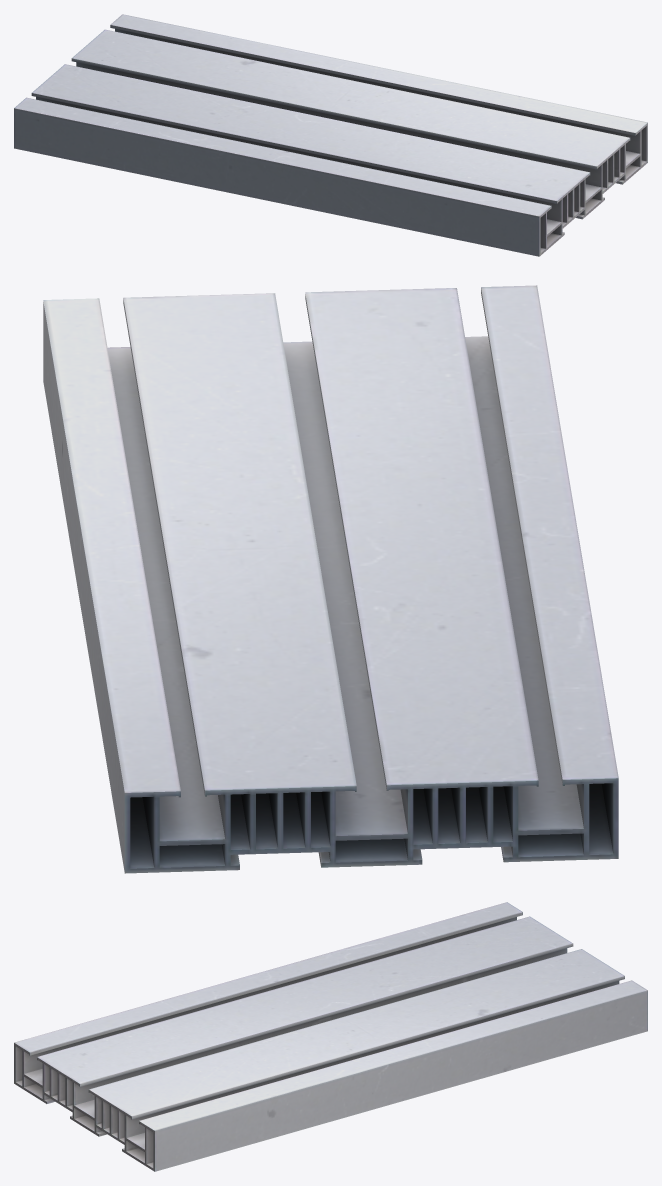
Rendered from kornis.glb.
3 renders of one model, top to bottom at view 1: azimuth 30°, elevation 25°; view 2: azimuth 150°, elevation 25°; view 3: azimuth 270°, elevation 25°, orthographic. The views are drawn at different scales.
Visible parts, largest first — view 1: Plane; view 2: Plane; view 3: Plane.
Part boxes in pixels (bbox=[...]): Plane: bbox=[14, 14, 647, 256]; Plane: bbox=[43, 285, 618, 873]; Plane: bbox=[14, 902, 647, 1171].
Bounding box in the file's own units: 6.22 × 0.5193 × 7.29.
1 material, 1 textured.
